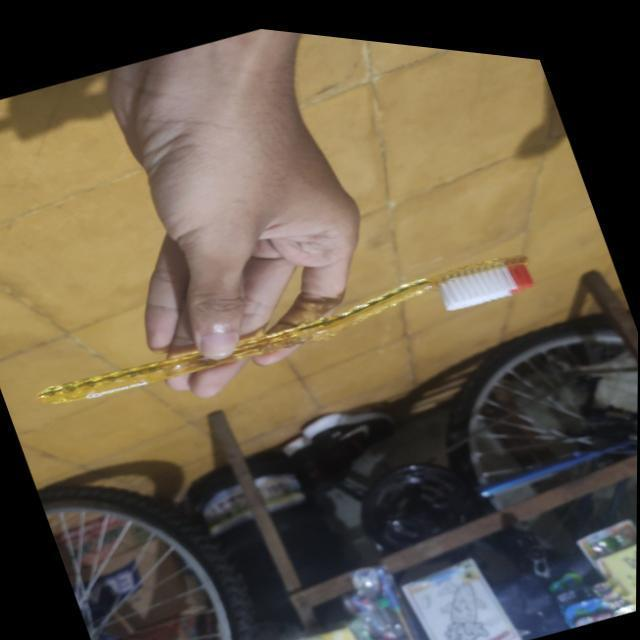toothbrush: (16, 157, 582, 499)
